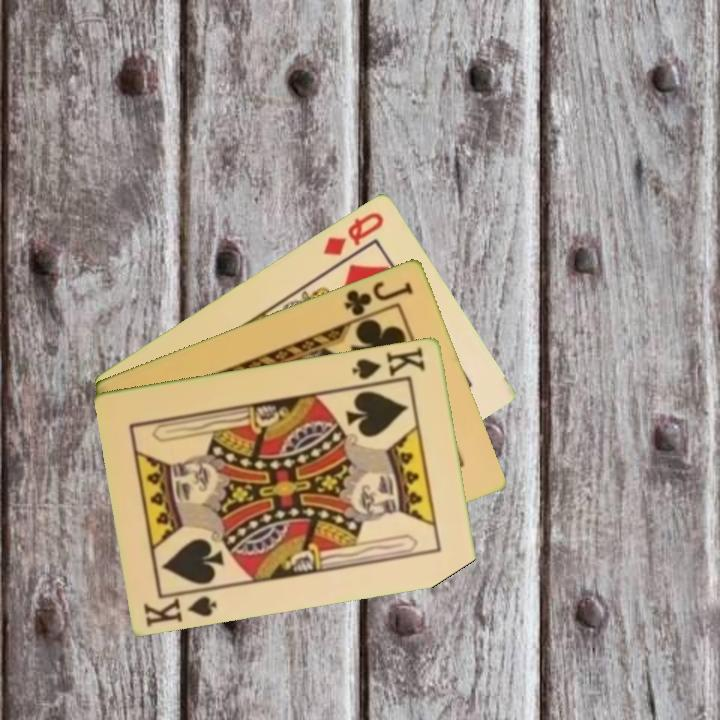Jc: (341, 277, 416, 319)
Ks: (140, 584, 221, 629), (349, 343, 428, 388)
Qd: (319, 208, 387, 258)
